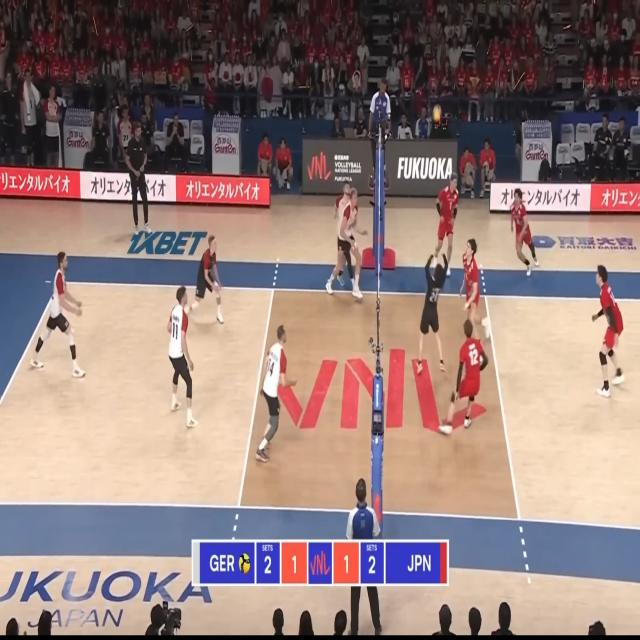ball: (432, 104, 442, 122)
